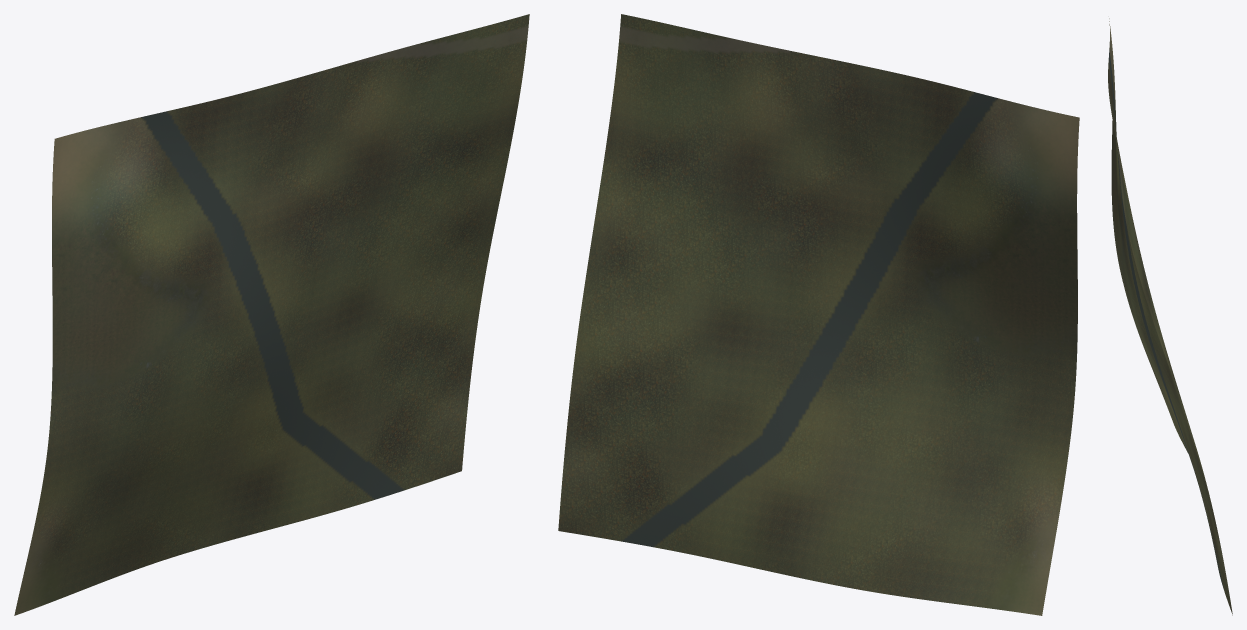
File: ground_core_01_05.obj
3 renders of one model, left to right at view 1: azimuth 30°, elevation 25°; view 2: azimuth 150°, elevation 25°; view 3: azimuth 270°, elevation 25°, orthographic. The views are drawn at different scales.
Visible parts, largest first — view 1: ground_core_01_05; view 2: ground_core_01_05; view 3: ground_core_01_05.
Boxes of the visible parts, bbox=[...] form: ground_core_01_05: bbox=[14, 14, 529, 615]; ground_core_01_05: bbox=[558, 14, 1079, 615]; ground_core_01_05: bbox=[1108, 18, 1232, 615].
Bounding box in the file's own units: 50 × 50 × 13.79.
Materials: 1 (1 with a texture image).
